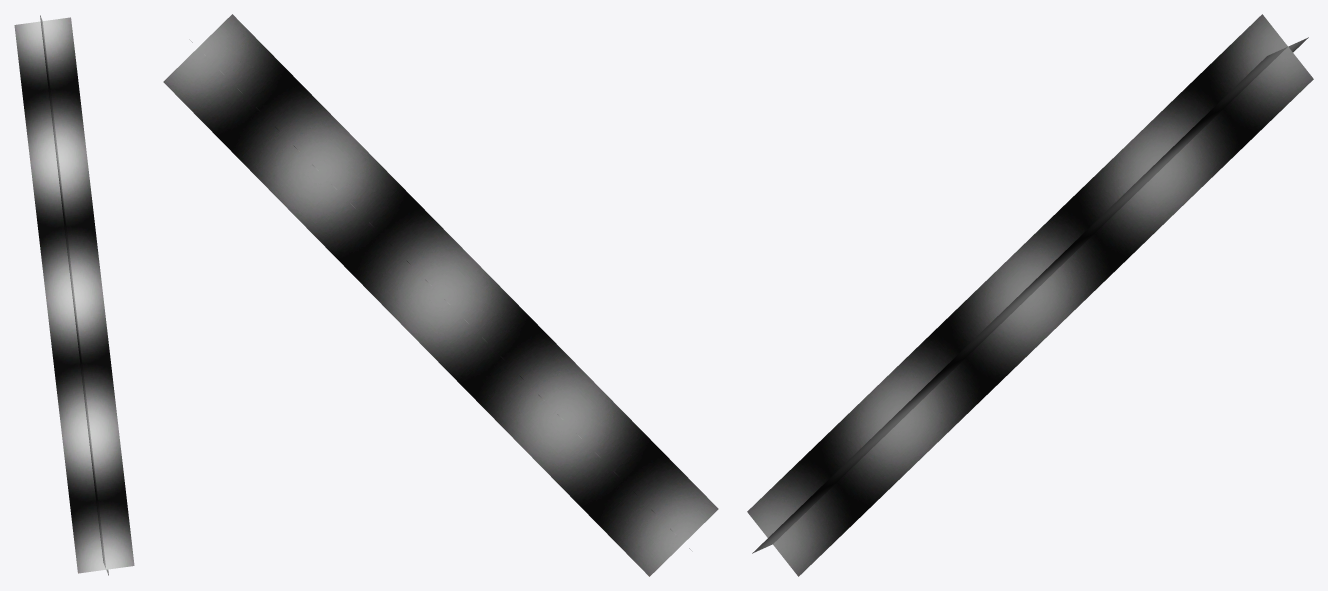
File: vfx_kurp_0774.dae
3 renders of one model, left to right at view 1: azimuth 30°, elevation 25°; view 2: azimuth 150°, elevation 25°; view 3: azimuth 270°, elevation 25°, orthographic. The views are drawn at different scales.
Visible parts, largest first — view 1: vfx_kurp_0774; view 2: vfx_kurp_0774; view 3: vfx_kurp_0774.
Boxes of the visible parts, <box> form: vfx_kurp_0774: <box>14,15,134,575</box>; vfx_kurp_0774: <box>163,14,718,576</box>; vfx_kurp_0774: <box>747,14,1313,576</box>.
Size of the model in its own units: 0.5592 by 1.21 by 1.48.
Materials: 1 (1 with a texture image).
